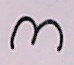sum: (1, 4, 69, 57)
